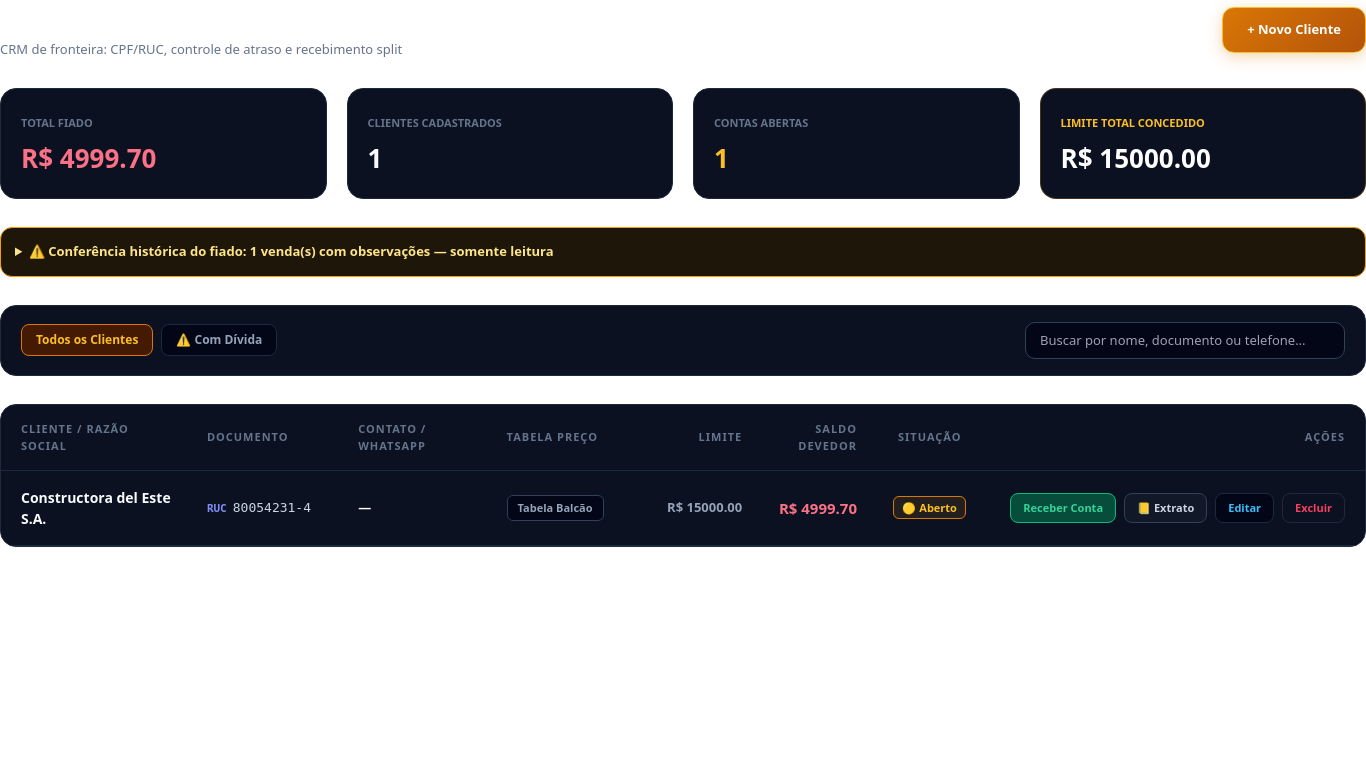
Test: ID da venda diferente do ID financeiro: impede baixa
Click the button "Receber Conta".
click(1063, 508)  # box [1010,493,1116,523]
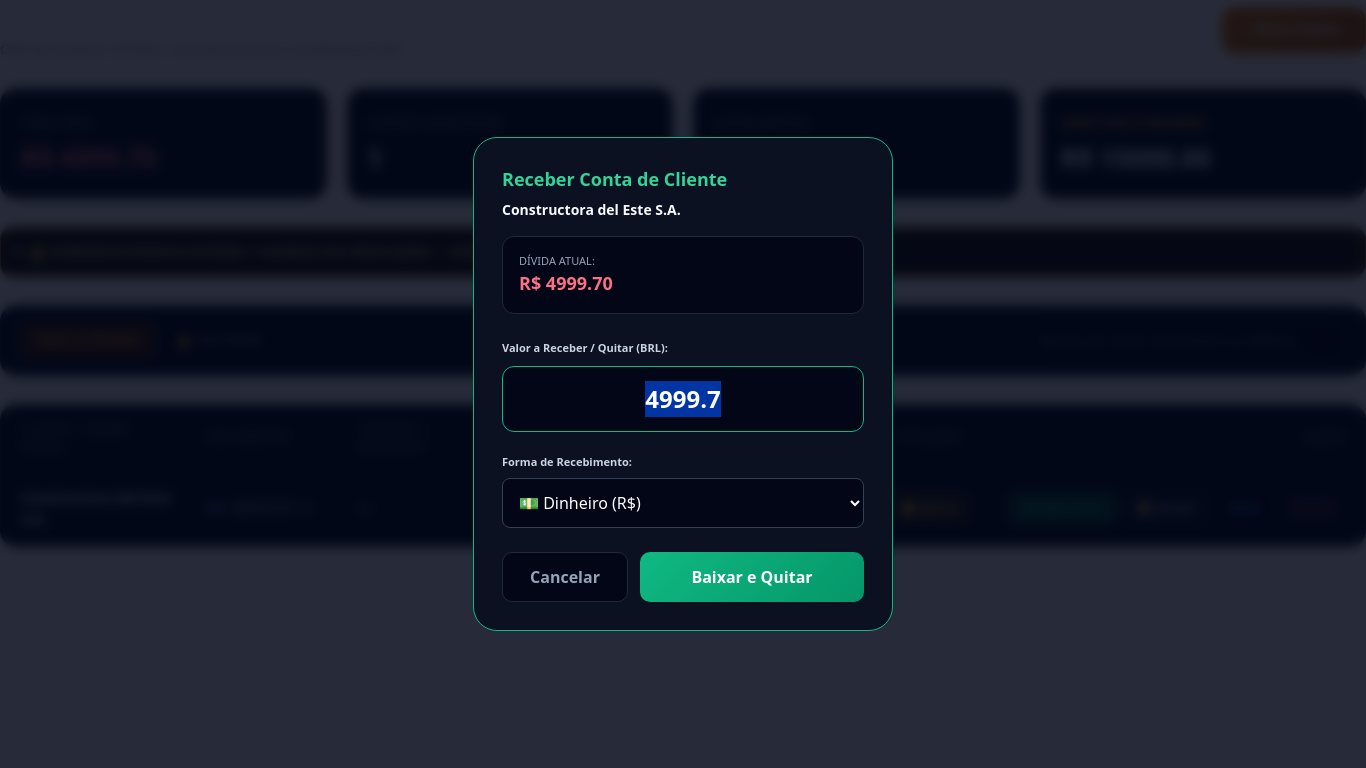
Select "⚡ Pix QR Code" in the dropdown at (683, 503), box [502,478,864,528]
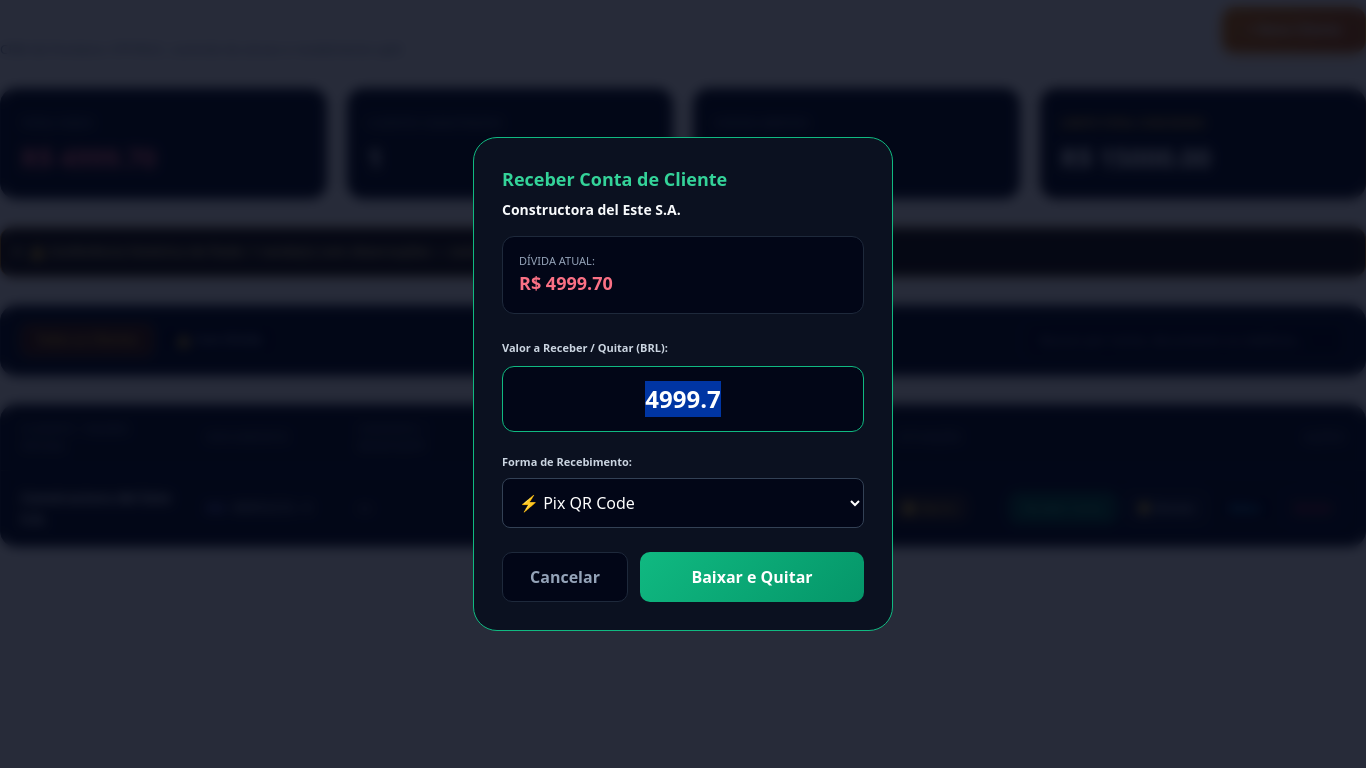
Replace the text in the field with placeholder "0.00" with "50" at (683, 399), box [502,366,864,432]
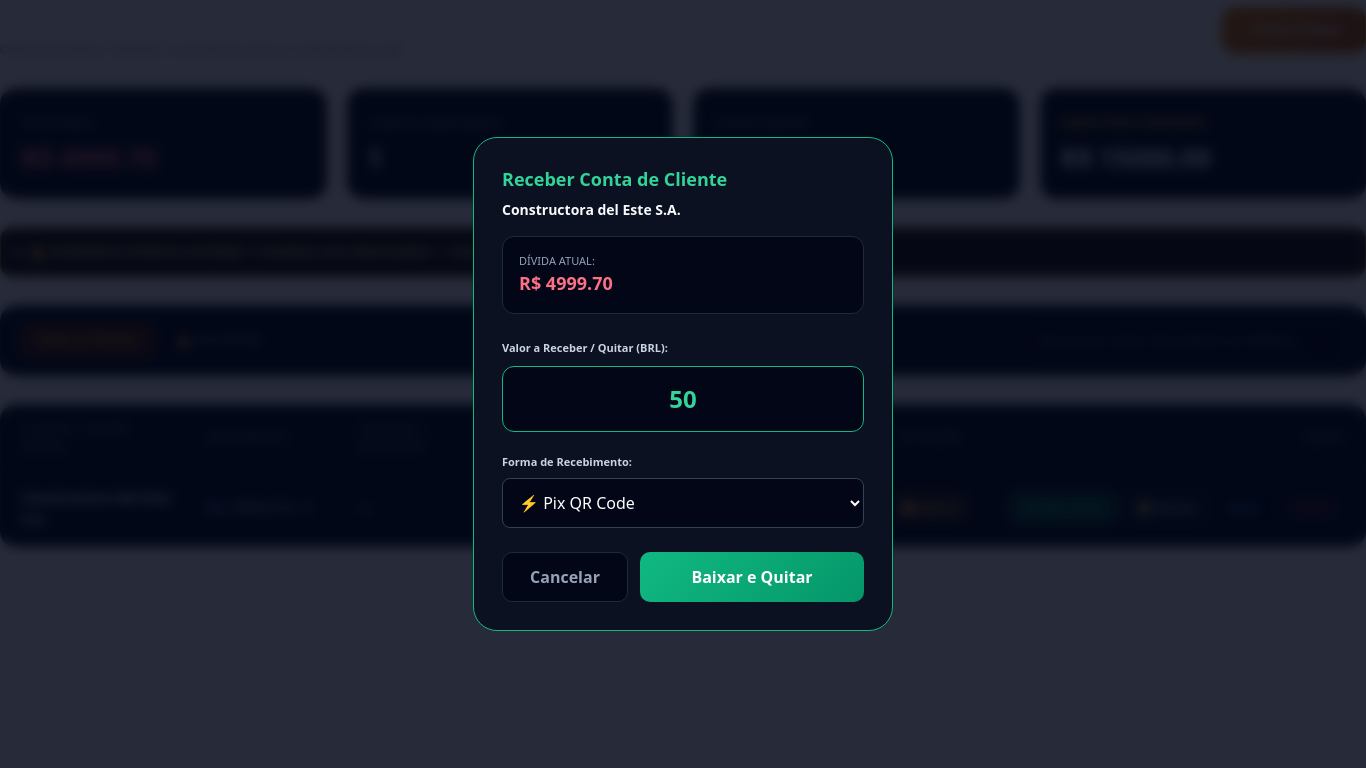
Click the button "Baixar e Quitar".
click(752, 577)  # box [640,552,864,602]
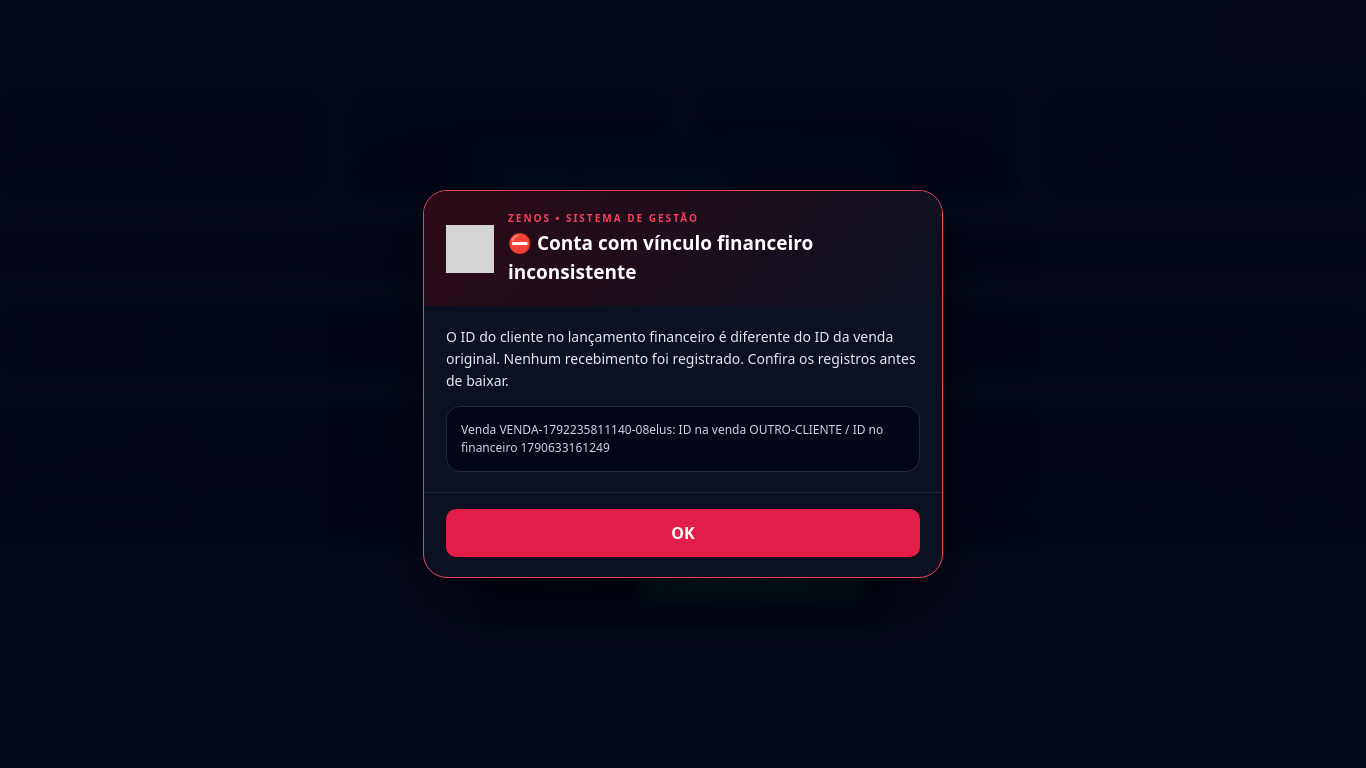
expect the text "⛔ Conta com vínculo financeiro inconsistente" is shown: met, box [508,230,813,285]
